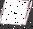scratch: (0, 0, 31, 29)
